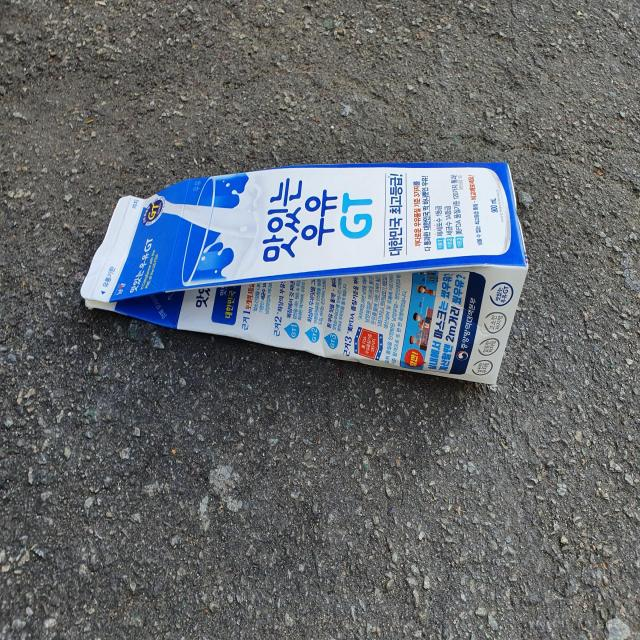paperpack: (80, 162, 529, 384)
